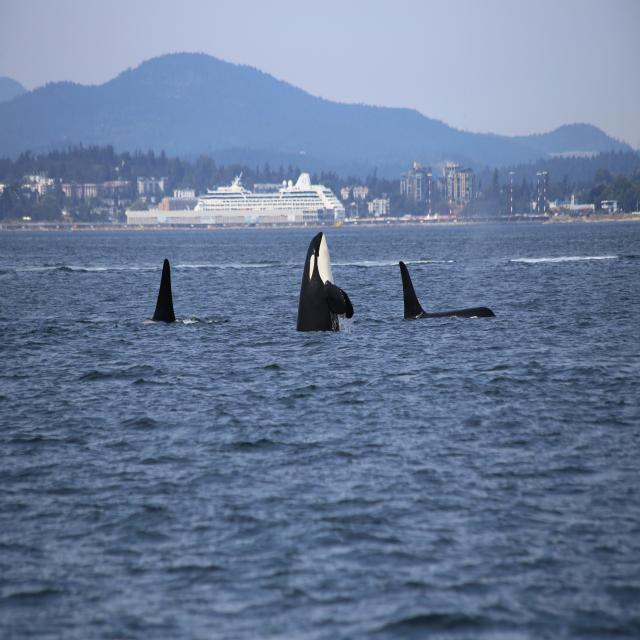ballena: (296, 232, 354, 331), (399, 261, 494, 319), (152, 259, 175, 323)
